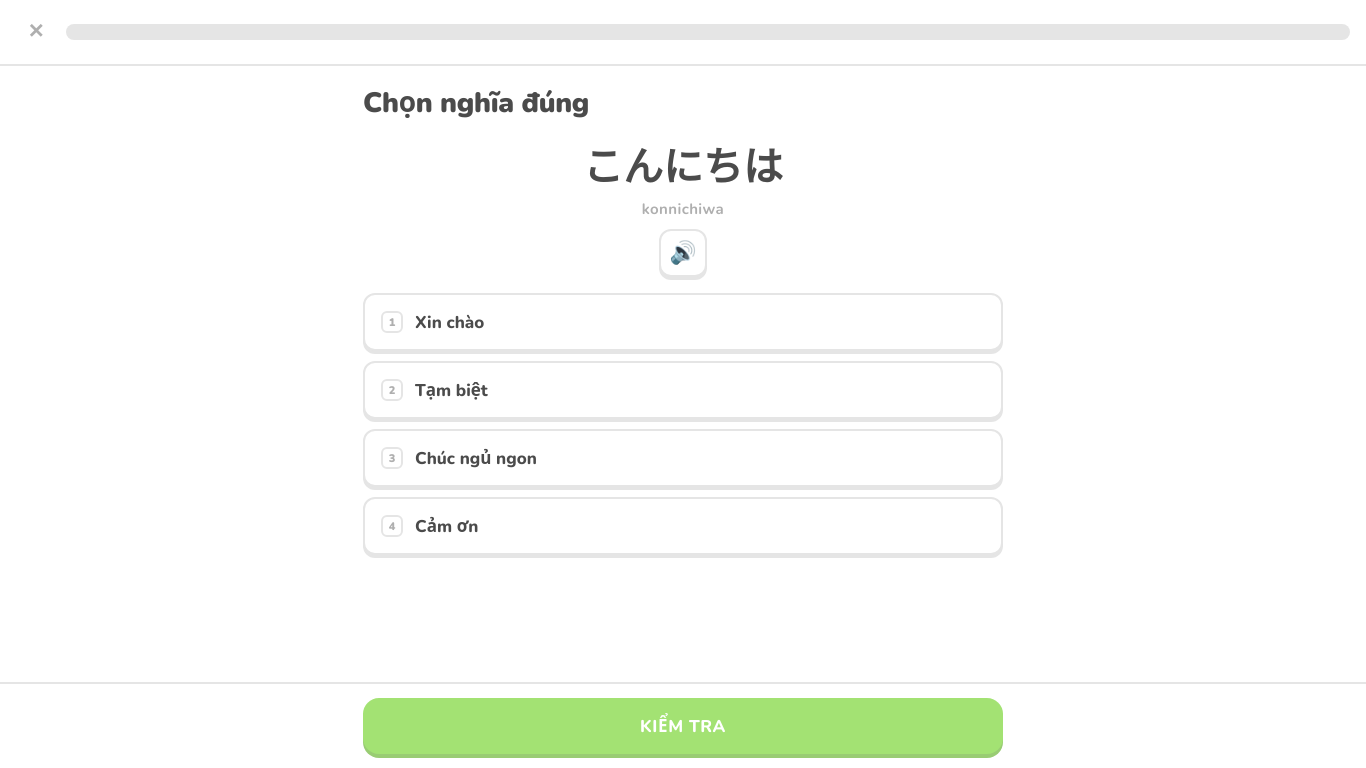
Test case: LessonScreen — ghép cặp sai › không đạt "hoàn hảo", không +5 XP, mỗi câu chỉ tính 1 answer
Later steps or results of the test are not shown.
Click the button "1 Xin chào". click: {"x": 450, "y": 322}
box: [363,293,1003,351]
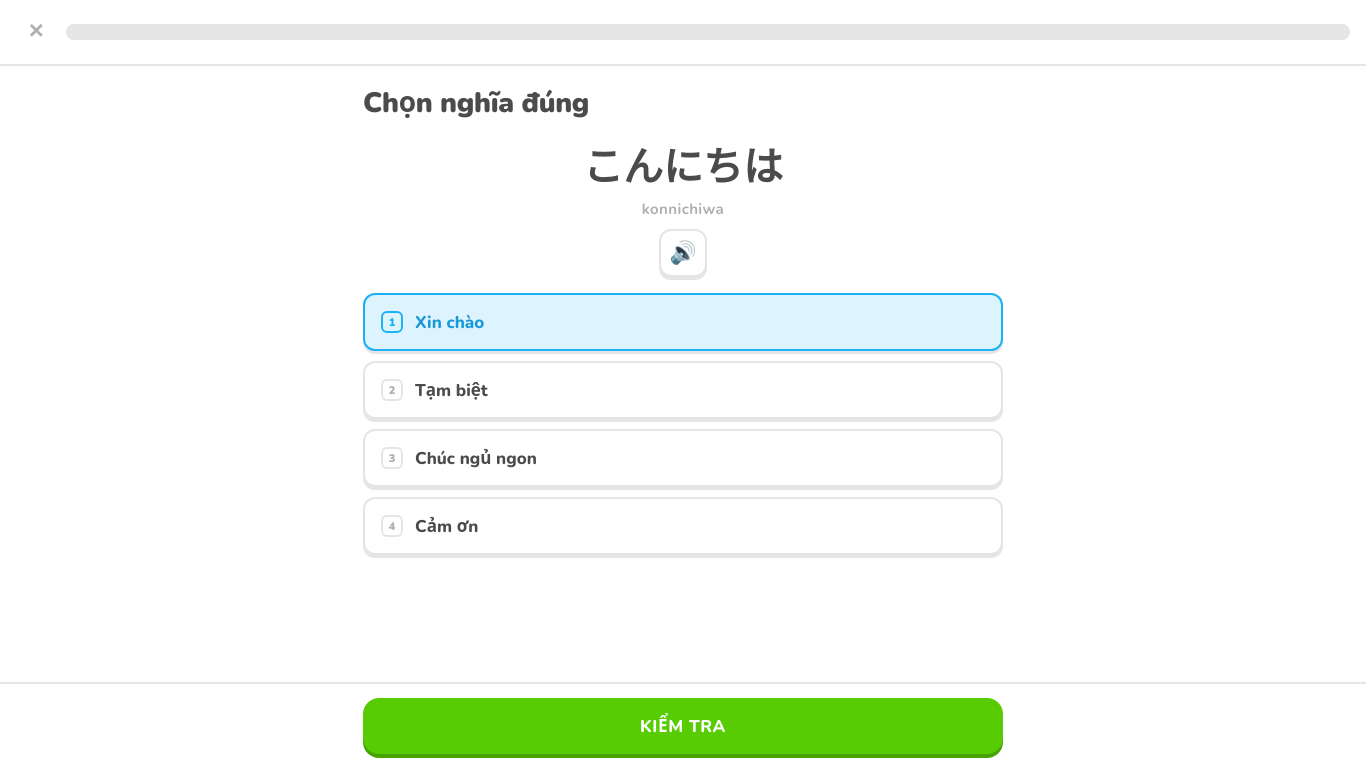
Expected: the button with test id "check-button" is enabled
Click the button with test id "check-button". click: {"x": 683, "y": 726}
box: [363,698,1003,754]
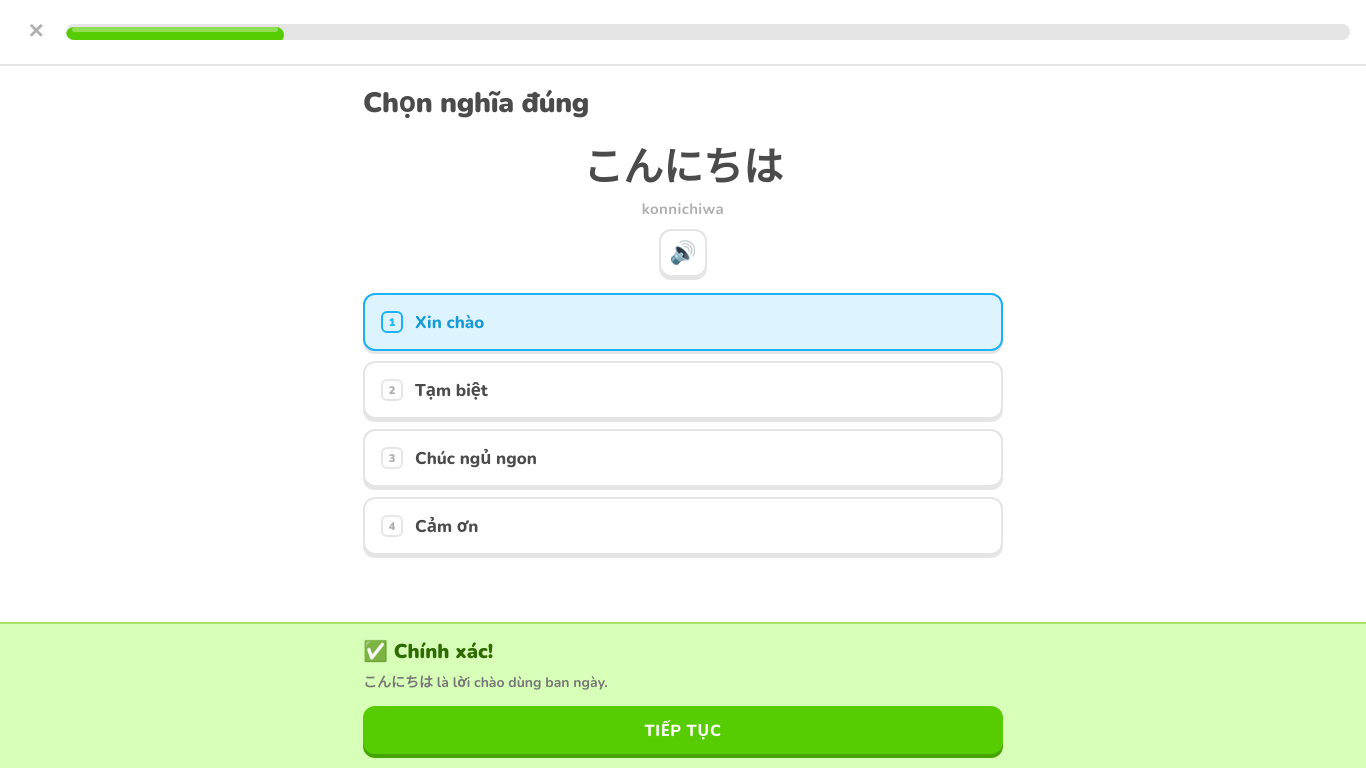
Click the button with test id "continue-button". click: {"x": 683, "y": 730}
box: [363,706,1003,754]
(page scrolled)
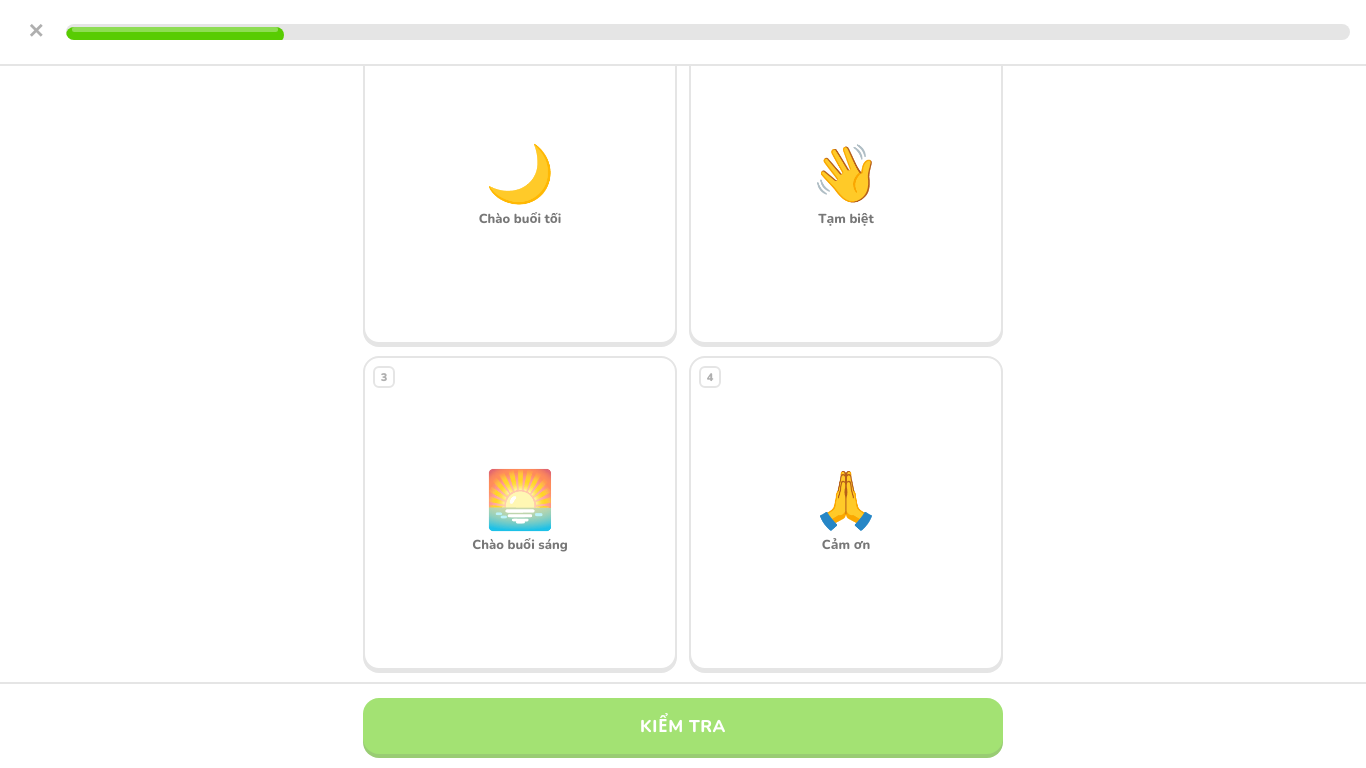
Expected: the button with test id "continue-button" is gone
Click the button "🌅 Chào buổi sáng 3". click: {"x": 520, "y": 513}
box: [363,356,677,670]
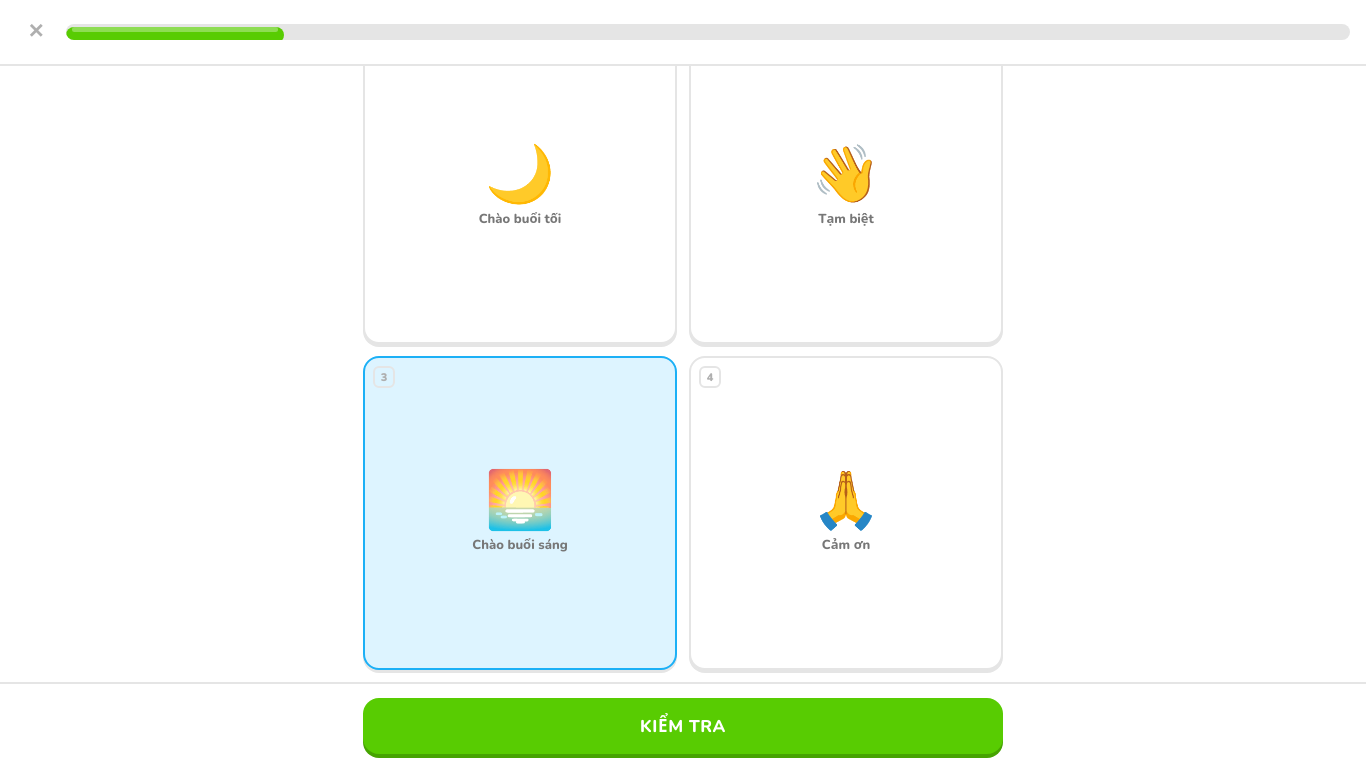
Expected: the button with test id "check-button" is enabled
Click the button with test id "check-button". click: {"x": 683, "y": 726}
box: [363,698,1003,754]
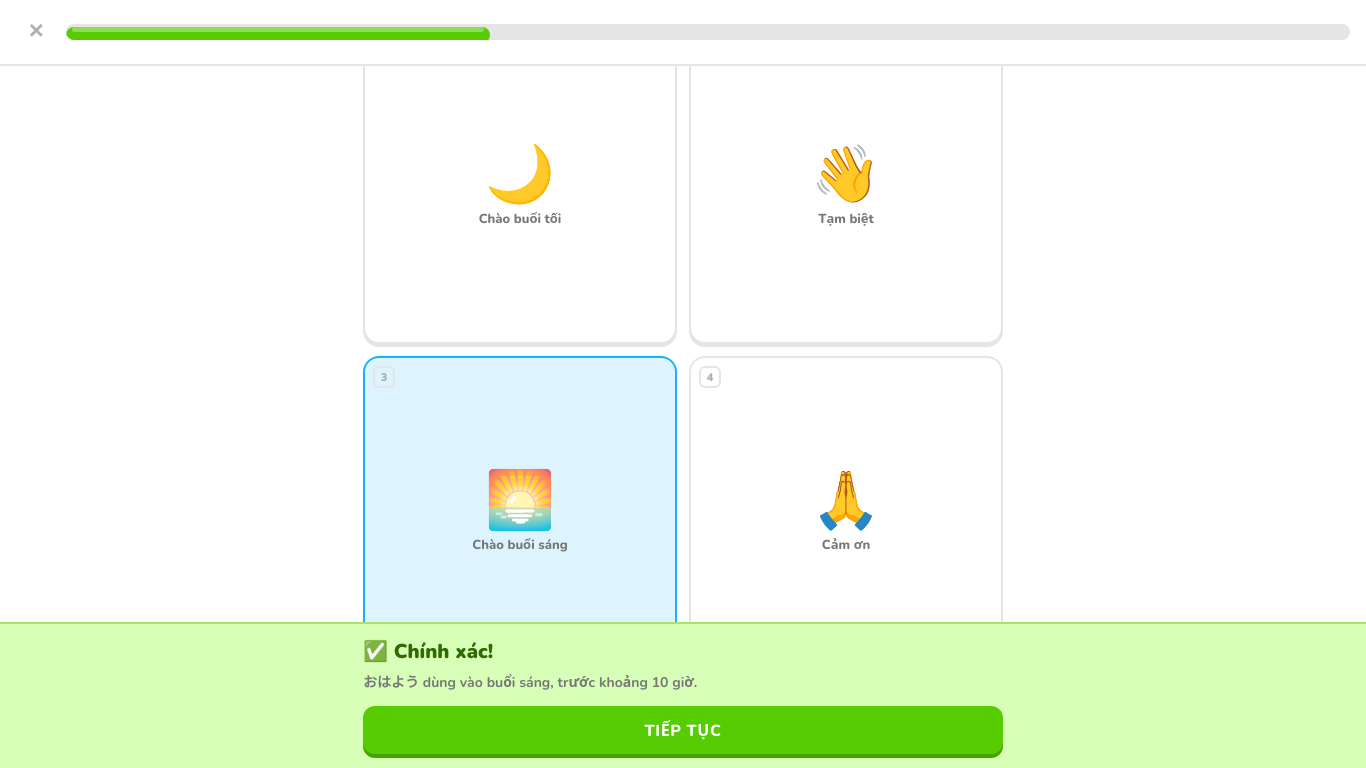
Click the button with test id "continue-button". click: {"x": 683, "y": 730}
box: [363,706,1003,754]
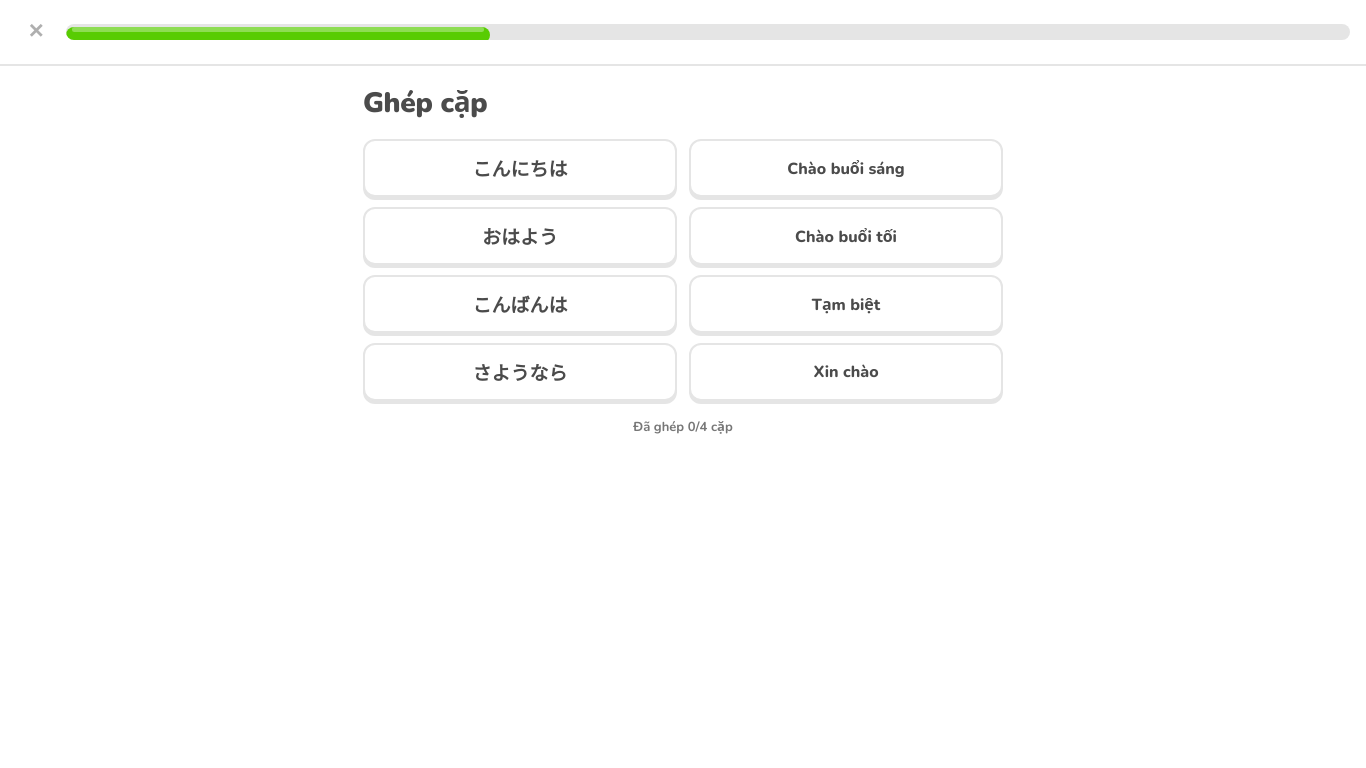
Expected: the button with test id "continue-button" is gone
